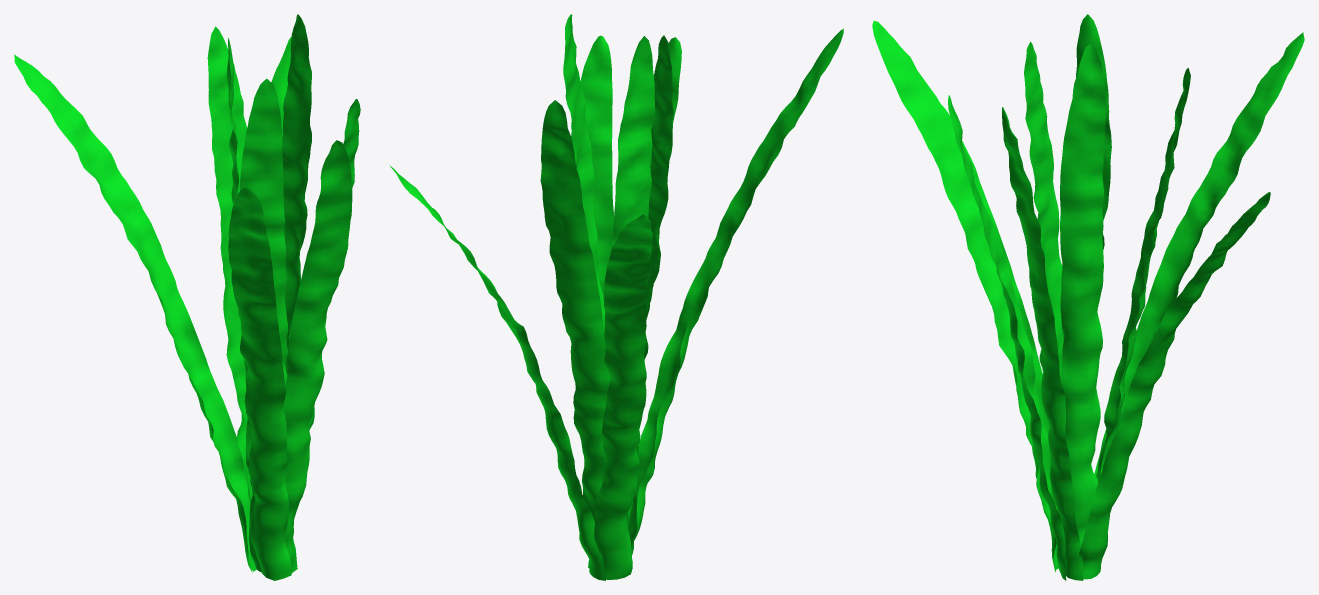
The model's file is Grass.fbx.
The picture shows the model from 3 angles, left to right: view 1: azimuth 30°, elevation 25°; view 2: azimuth 150°, elevation 25°; view 3: azimuth 270°, elevation 25°; orthographic projection.
Visible parts, largest first — view 1: Flores; view 2: Flores; view 3: Flores.
Part boxes in pixels (x1,y1,x2,y2): Flores: (14,14,360,580); Flores: (389,14,843,580); Flores: (872,14,1304,580).
Size of the model in its own units: 397 by 764 by 550.
